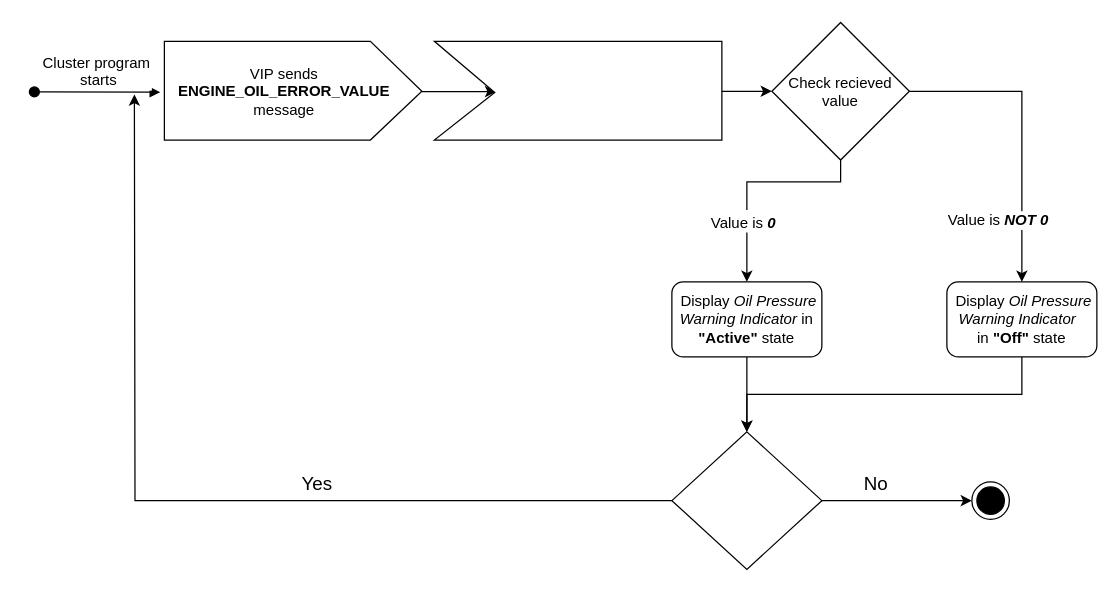
Some shapes in this 1119 by 591 pixel diagram are drawn without their labels. Here are the shapes that lost their labels. From the top down, the centre of each, then its label:
At (577,103): "HMI recieves ENGINE_OIL_ERROR_VALUE message".
At (746,500): "Is cluster program still active".
